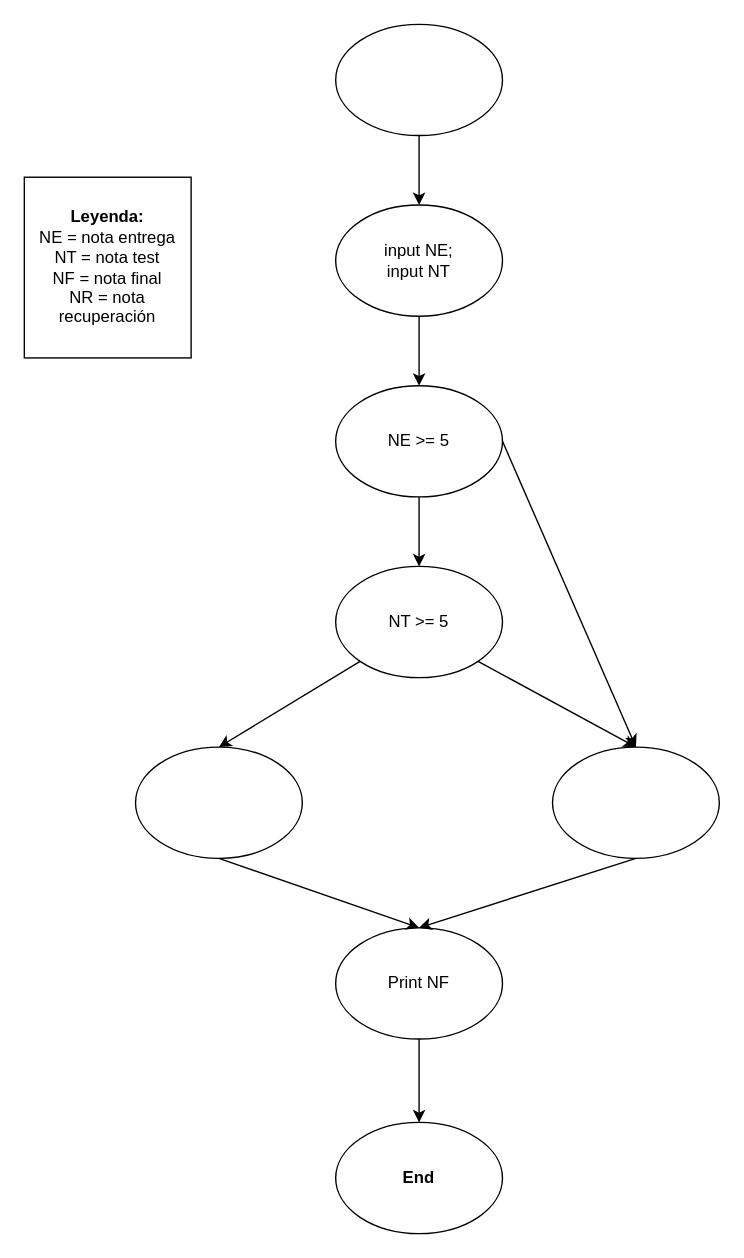
The diagram is 744 pixels wide and 1258 high, and some of its shapes have lost their labels. The centre of each missing label's shape, as x and y in pixels:
Begin: pixel 418 79
NF = (NT*0.4 + NE*0.6) / 2: pixel 218 802
NF = NR: pixel 635 802
